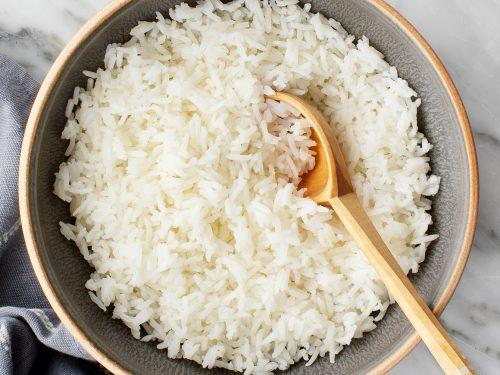rice: (69, 0, 427, 375)
